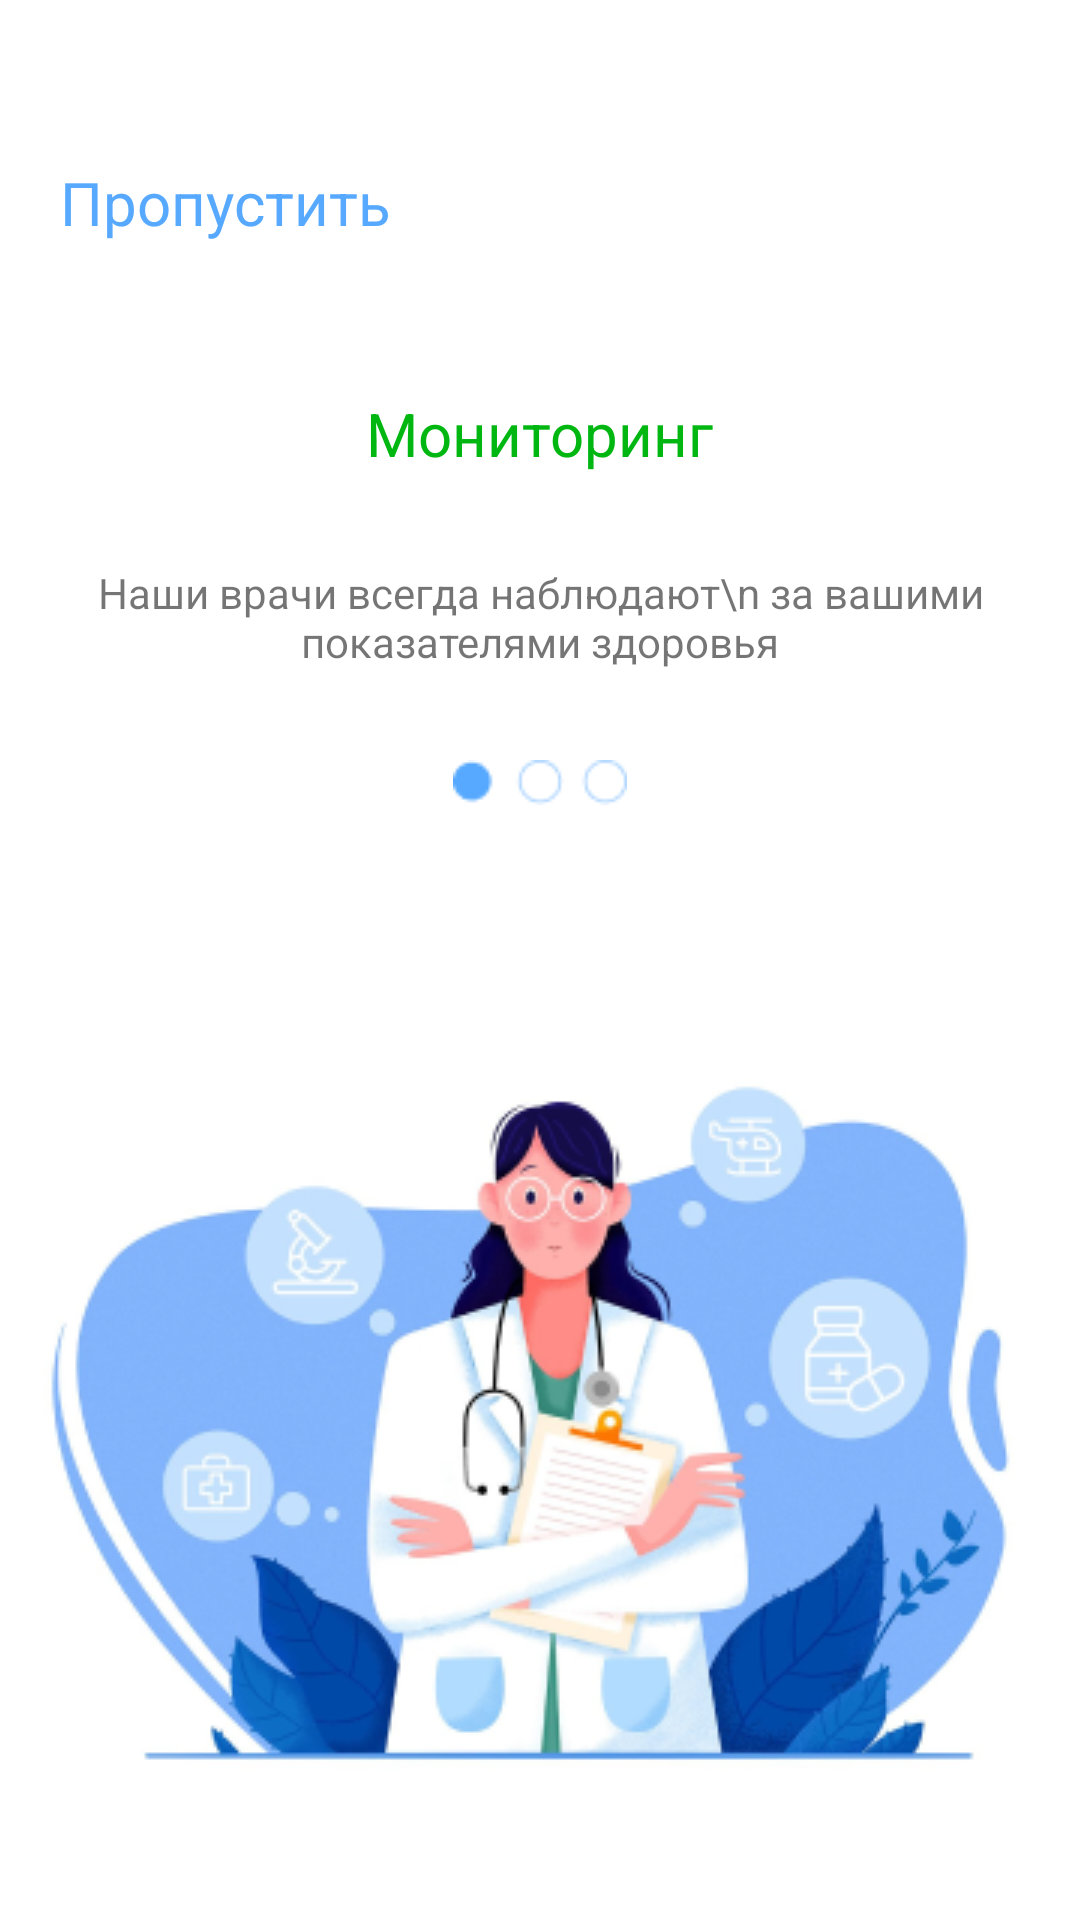

Named icons in this screenshot (1080×1920) and their bounding boxes, (x1, y1, x2, y2):
shariki: (453, 760, 627, 803)
